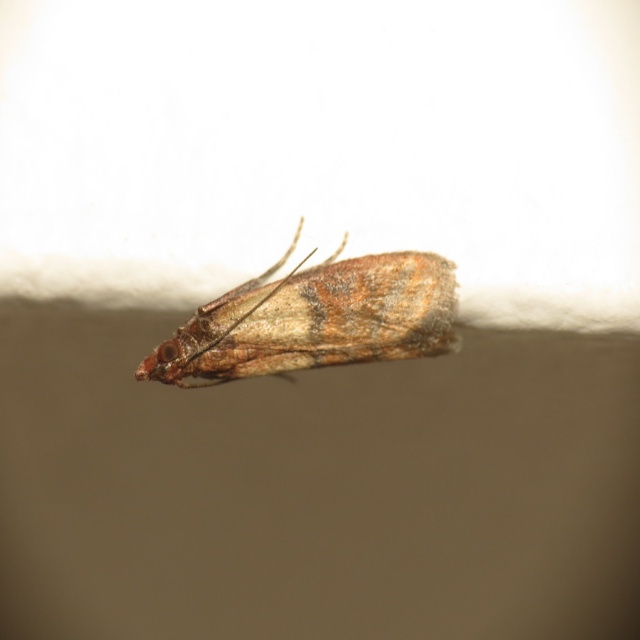Moths and butterflies: (134, 214, 464, 390)
